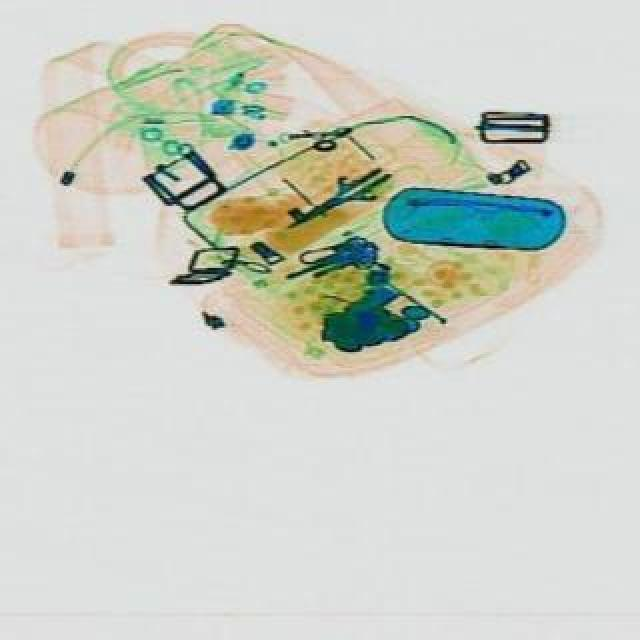knife: (276, 160, 396, 244)
